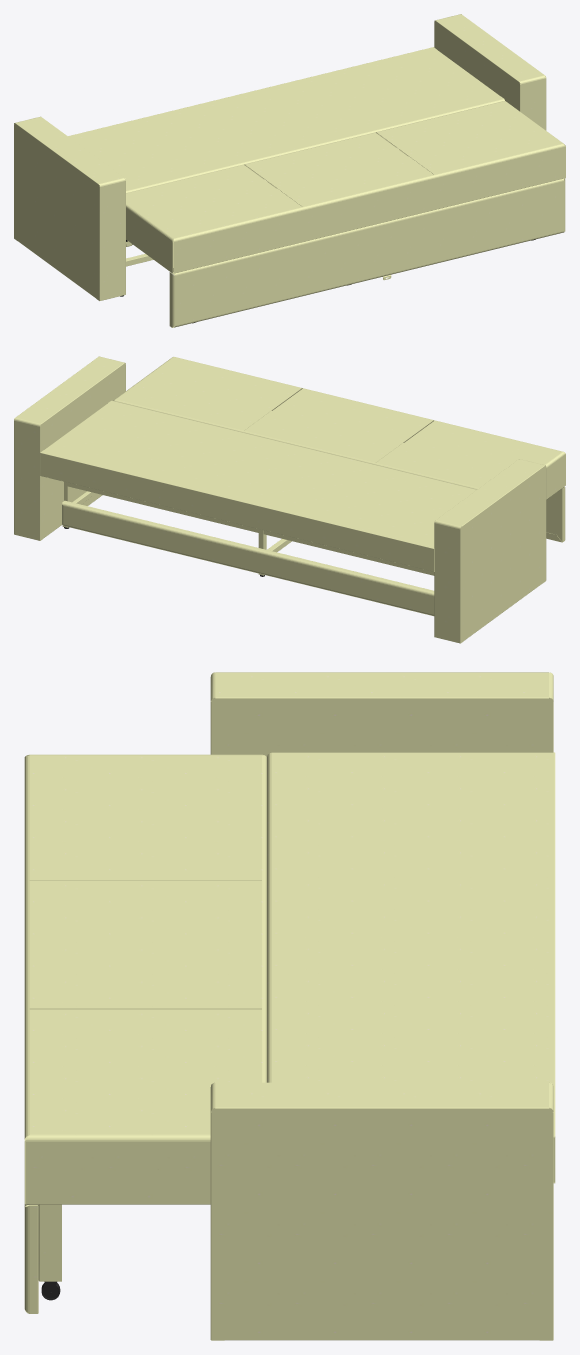
The picture shows the model from 3 angles, top to bottom: view 1: azimuth 30°, elevation 25°; view 2: azimuth 150°, elevation 25°; view 3: azimuth 270°, elevation 25°; orthographic projection. The views are drawn at different scales.
Parts seen in each view (by area): view 1: d58d0a25-9c7c-4b92-8d92-02aeaeba7fb2, c30287e7-4987-44d2-840e-998e3c610e81, 58036efb-5fa0-4b2f-9c08-7d5cbd04d321; view 2: d58d0a25-9c7c-4b92-8d92-02aeaeba7fb2, 58036efb-5fa0-4b2f-9c08-7d5cbd04d321, c30287e7-4987-44d2-840e-998e3c610e81, 5985f7cd-7142-438c-89a9-ab1c25d00be3; view 3: 58036efb-5fa0-4b2f-9c08-7d5cbd04d321, c30287e7-4987-44d2-840e-998e3c610e81, d58d0a25-9c7c-4b92-8d92-02aeaeba7fb2, 5985f7cd-7142-438c-89a9-ab1c25d00be3.
Part boxes in pixels (x1=…): d58d0a25-9c7c-4b92-8d92-02aeaeba7fb2: x1=68, y1=47, x2=565, y2=327; c30287e7-4987-44d2-840e-998e3c610e81: x1=126, y1=101, x2=565, y2=273; 58036efb-5fa0-4b2f-9c08-7d5cbd04d321: x1=14, y1=14, x2=546, y2=300; d58d0a25-9c7c-4b92-8d92-02aeaeba7fb2: x1=40, y1=400, x2=565, y2=616; 58036efb-5fa0-4b2f-9c08-7d5cbd04d321: x1=14, y1=356, x2=546, y2=643; c30287e7-4987-44d2-840e-998e3c610e81: x1=113, y1=357, x2=565, y2=499; 5985f7cd-7142-438c-89a9-ab1c25d00be3: x1=62, y1=482, x2=561, y2=575; 58036efb-5fa0-4b2f-9c08-7d5cbd04d321: x1=210, y1=672, x2=553, y2=1340; c30287e7-4987-44d2-840e-998e3c610e81: x1=24, y1=754, x2=266, y2=1204; d58d0a25-9c7c-4b92-8d92-02aeaeba7fb2: x1=24, y1=752, x2=555, y2=1313; 5985f7cd-7142-438c-89a9-ab1c25d00be3: x1=38, y1=1204, x2=61, y2=1281.
Size of the model in its own units: 2.21 by 0.5746 by 1.14.
Materials: 2 (1 with a texture image).
